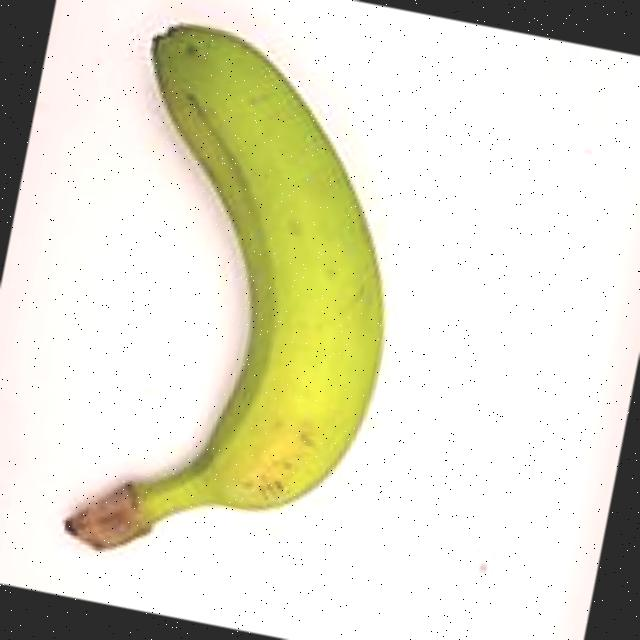Unripe: (0, 0, 465, 621)
